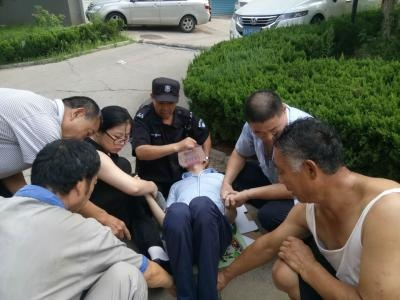falling: (157, 137, 247, 294)
